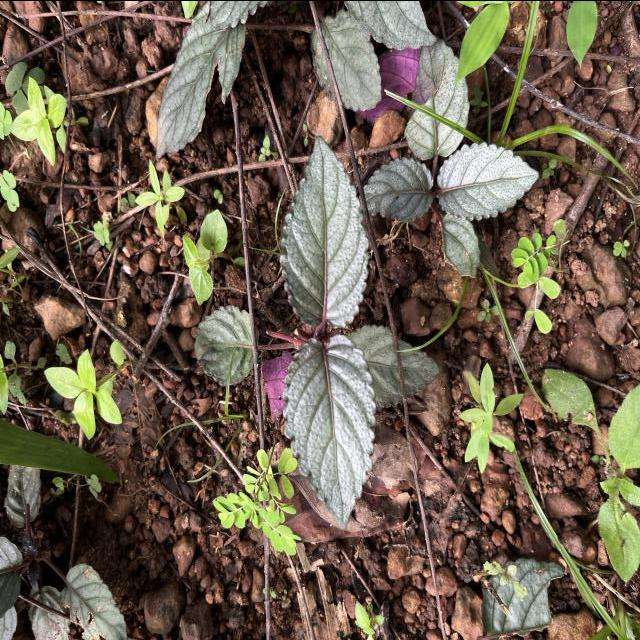Hemigraphis colorata: (280, 331, 378, 530), (276, 132, 372, 329), (155, 0, 248, 161), (402, 33, 472, 161), (436, 138, 540, 222), (348, 321, 442, 411), (309, 8, 383, 112), (191, 303, 261, 387), (357, 153, 435, 224), (342, 0, 438, 51)
